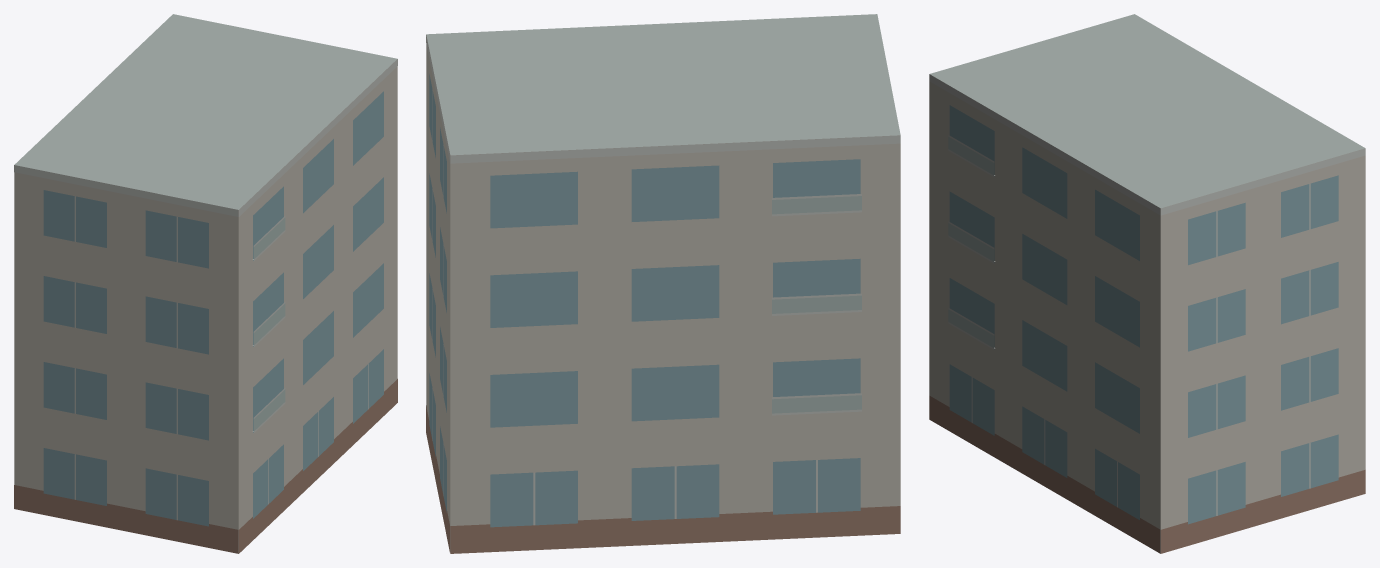
The model's file is survey-upis-33024655.glb.
3 views of the same model, side by side, from view 1: azimuth 30°, elevation 25°; view 2: azimuth 150°, elevation 25°; view 3: azimuth 270°, elevation 25° (orthographic). The views are drawn at different scales.
Visible parts, largest first — view 1: survey-upis-33024655.tmp; view 2: survey-upis-33024655.tmp; view 3: survey-upis-33024655.tmp.
Part boxes in pixels (x1,y1,x2,y2): survey-upis-33024655.tmp: [14, 14, 397, 553]; survey-upis-33024655.tmp: [426, 14, 900, 553]; survey-upis-33024655.tmp: [929, 14, 1365, 553].
Bounding box in the file's own units: 14.06 × 11.65 × 13.34.
